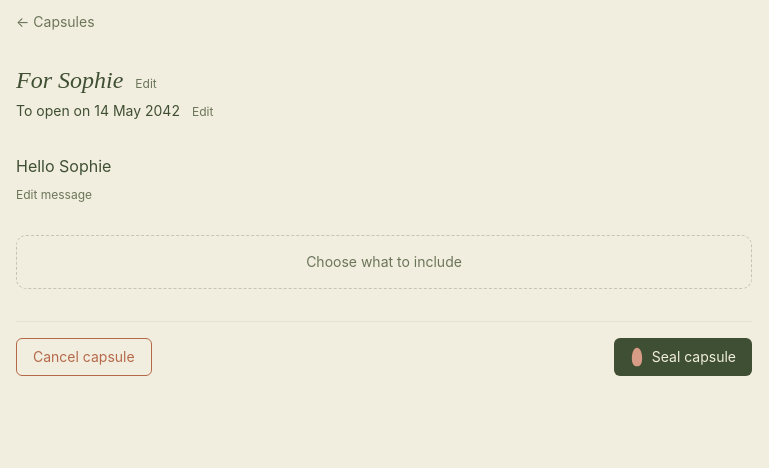
Test: CapsuleDetailPage — inline edit recipients › cancels recipient edit
Expected: the text "For Sophie" is shown, [16,64,123,97]
Click the button "Edit" next to "For Sophie".
click(146, 84)  # box [135,76,157,92]
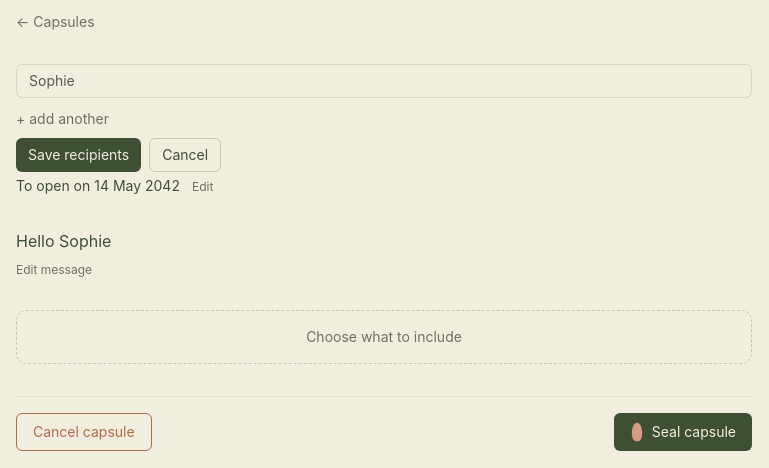
Click the button "Cancel".
click(185, 155)  # box [149,138,221,172]
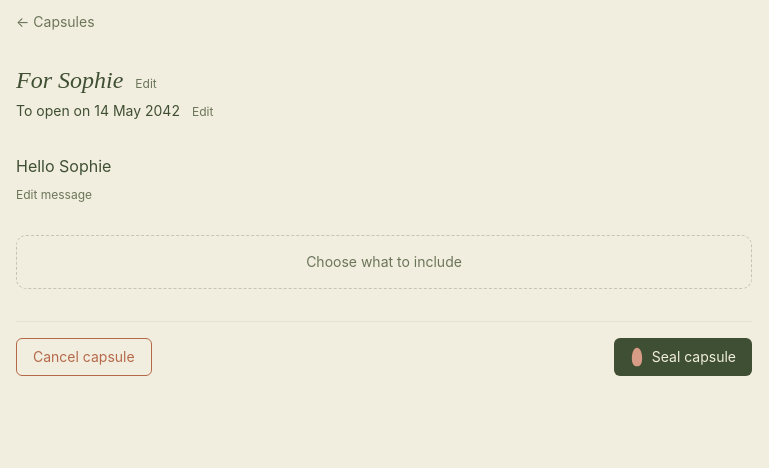
Now the text "For Sophie" is shown, box [16,64,123,97]
